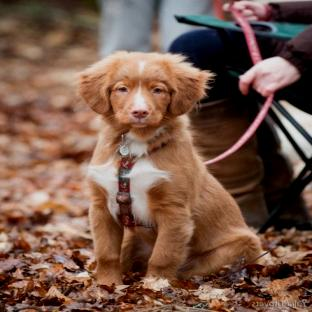Animal: (78, 51, 262, 286)
